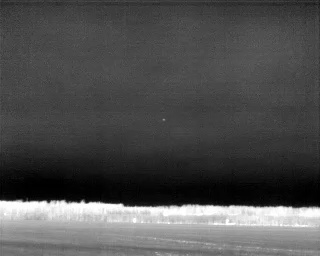HELICOPTER: (160, 116, 168, 124)
